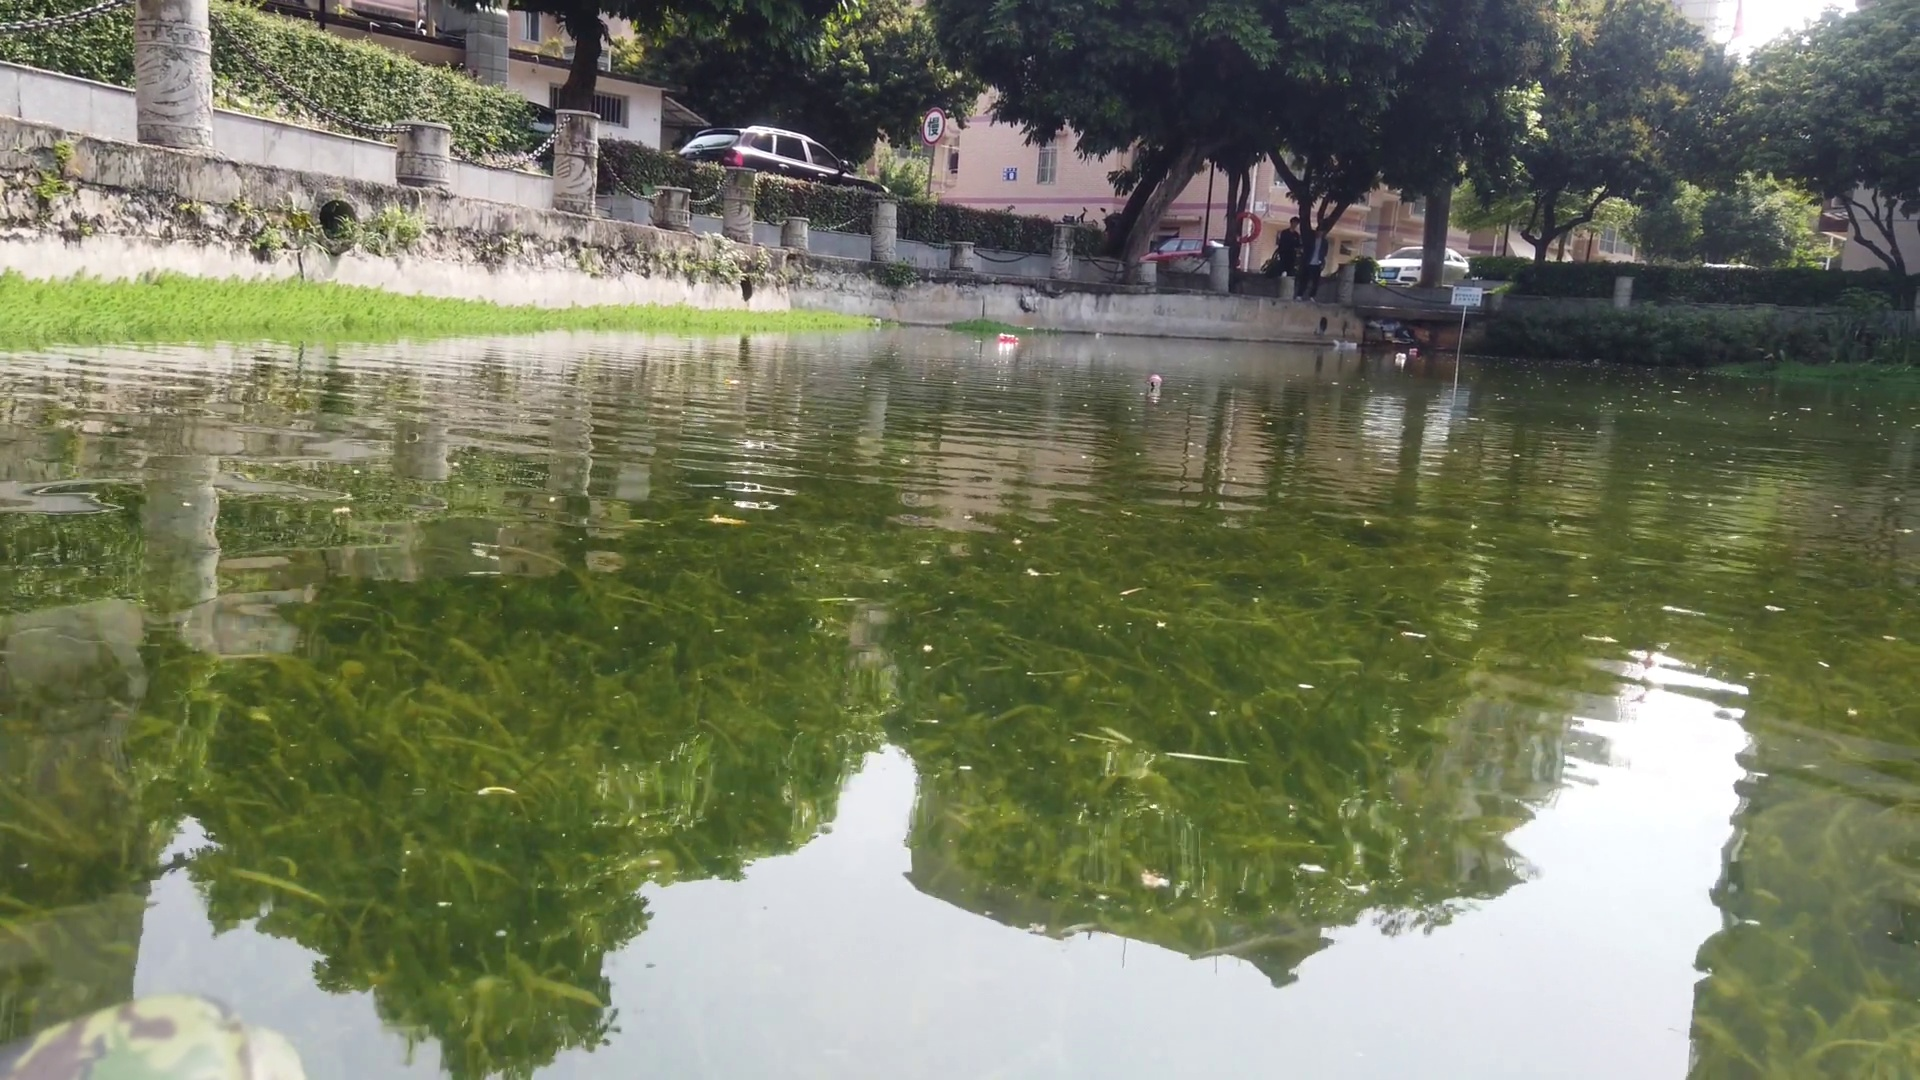bottle: (1147, 371, 1168, 390), (996, 332, 1019, 342), (1394, 352, 1408, 365), (1404, 344, 1419, 355)
carton: (1342, 342, 1360, 351)
plastic: (1332, 338, 1346, 352)
